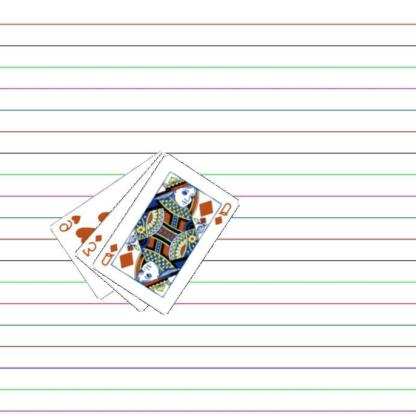3D: (81, 232, 105, 258)
9H: (58, 212, 84, 233)
QD: (213, 199, 235, 227), (100, 241, 121, 267)
